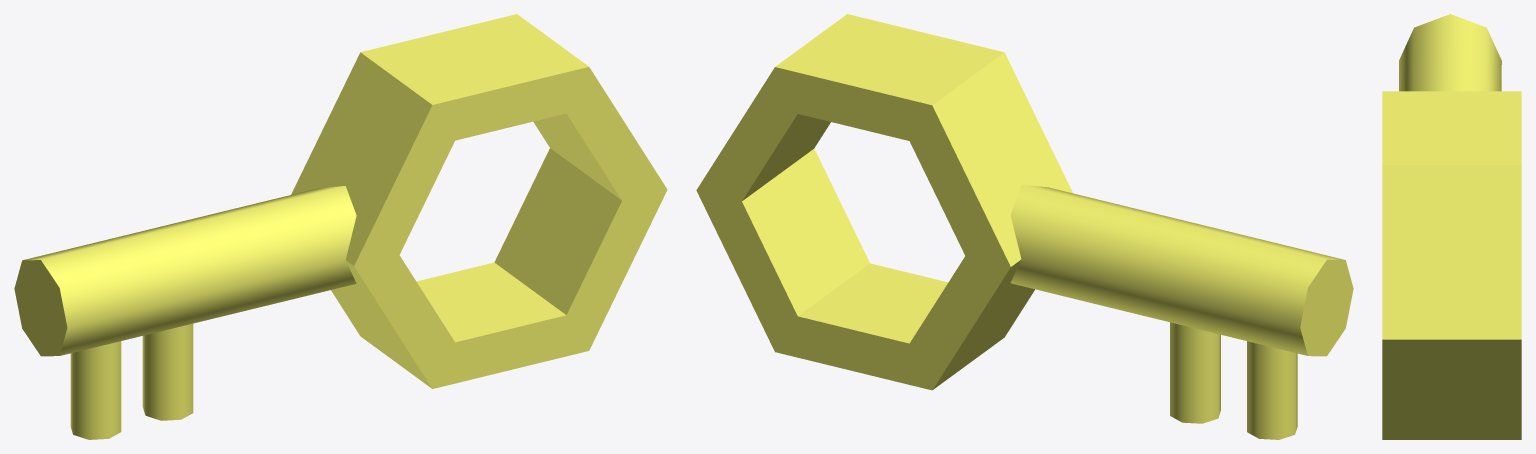
The model's file is Gold Key fix.fbx.
3 views of the same model, side by side, from view 1: azimuth 30°, elevation 25°; view 2: azimuth 150°, elevation 25°; view 3: azimuth 270°, elevation 25° (orthographic). The views are drawn at different scales.
Parts seen in each view (by area): view 1: Pipe, Cylinder, Cylinder_1, Cylinder__1_; view 2: Pipe, Cylinder, Cylinder__1_, Cylinder_1; view 3: Pipe, Cylinder.
Boxes of the visible parts, <box> form: Pipe: <box>291,14,667,388</box>; Cylinder: <box>14,186,356,356</box>; Cylinder_1: <box>70,341,121,439</box>; Cylinder__1_: <box>142,323,193,420</box>; Pipe: <box>696,14,1072,390</box>; Cylinder: <box>1010,185,1353,356</box>; Cylinder__1_: <box>1170,322,1220,423</box>; Cylinder_1: <box>1247,341,1297,439</box>; Pipe: <box>1382,91,1521,439</box>; Cylinder: <box>1399,14,1501,91</box>.
Size of the model in its own units: 260 by 120 by 55.
